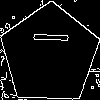I: (24, 29, 69, 45)
